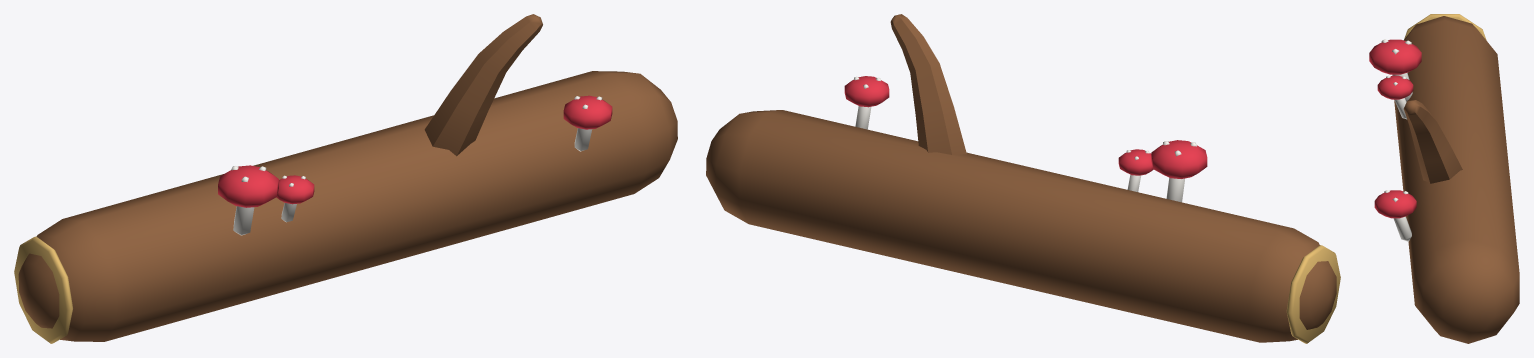
Rendered from W3_Log_A.fbx.
3 views of the same model, side by side, from view 1: azimuth 30°, elevation 25°; view 2: azimuth 150°, elevation 25°; view 3: azimuth 270°, elevation 25° (orthographic). The views are drawn at different scales.
Visible parts, largest first — view 1: W3_Log_A; view 2: W3_Log_A; view 3: W3_Log_A.
Boxes of the visible parts, x1=… form: W3_Log_A: x1=14, y1=14, x2=677, y2=343; W3_Log_A: x1=706, y1=14, x2=1340, y2=343; W3_Log_A: x1=1369, y1=14, x2=1519, y2=343.
Bounding box in the file's own units: 5.8 × 1.98 × 1.36.
